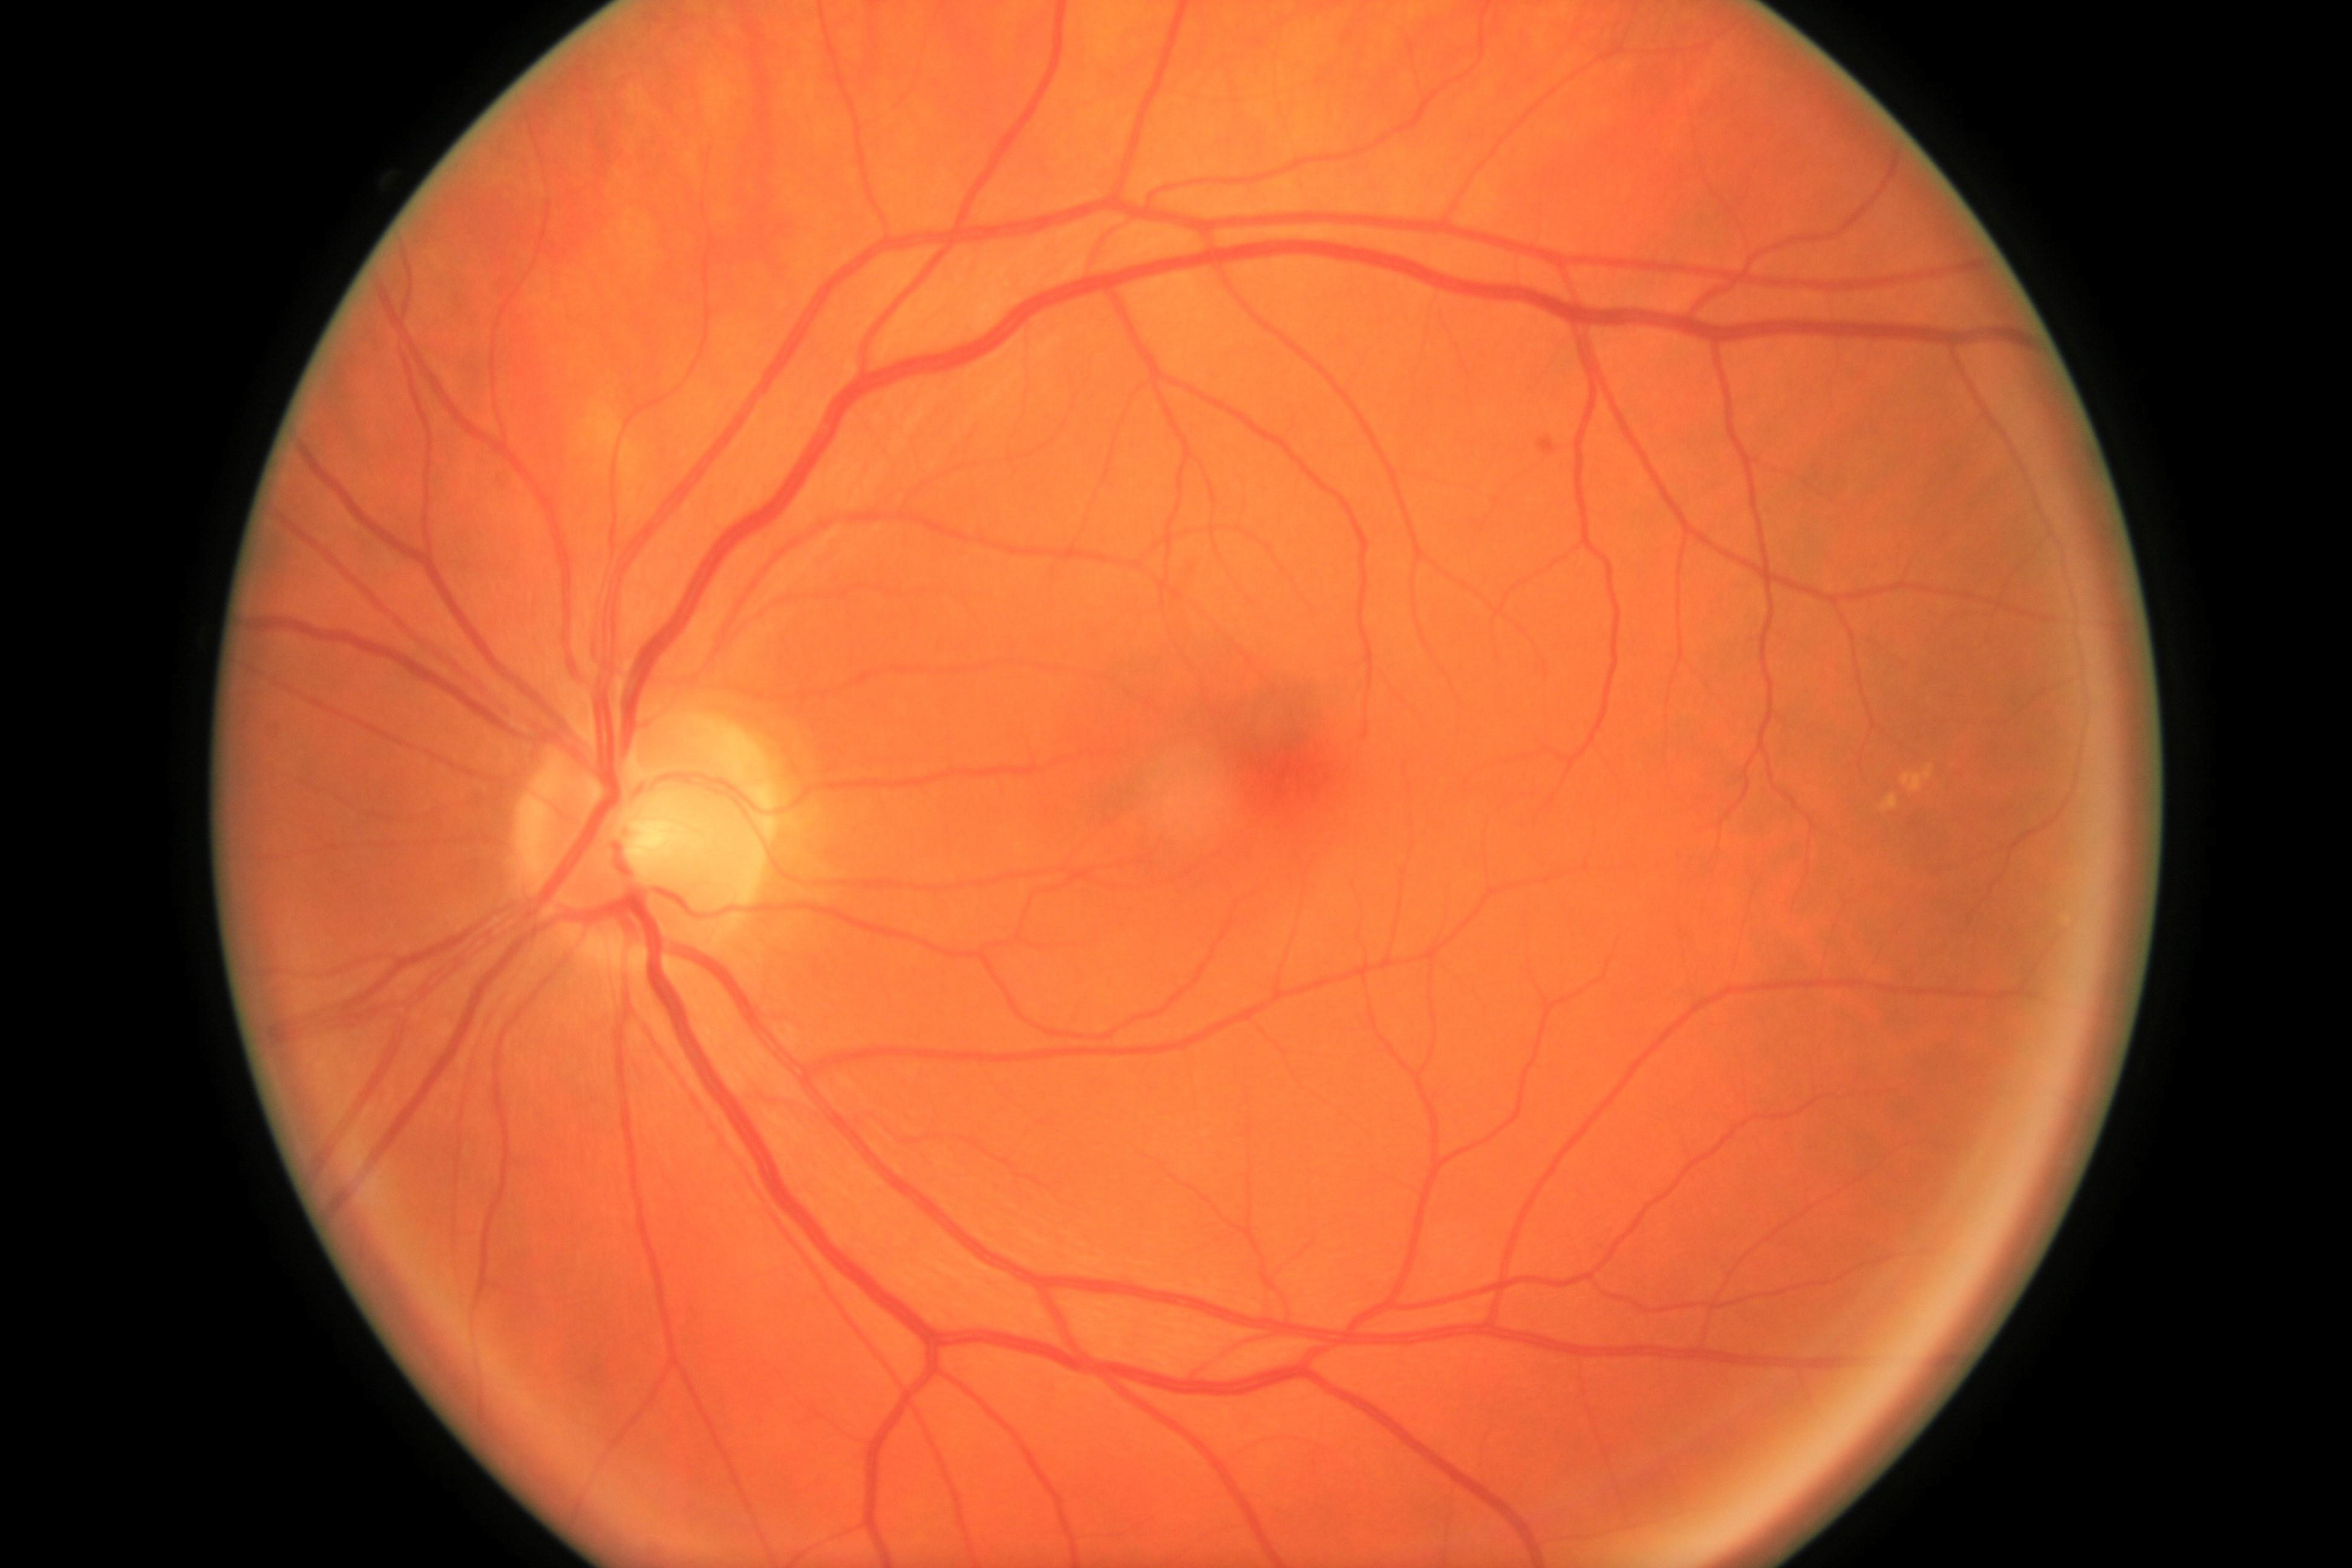Optic-nerve: (509, 700, 782, 975)
macula: (1060, 630, 1374, 936)
